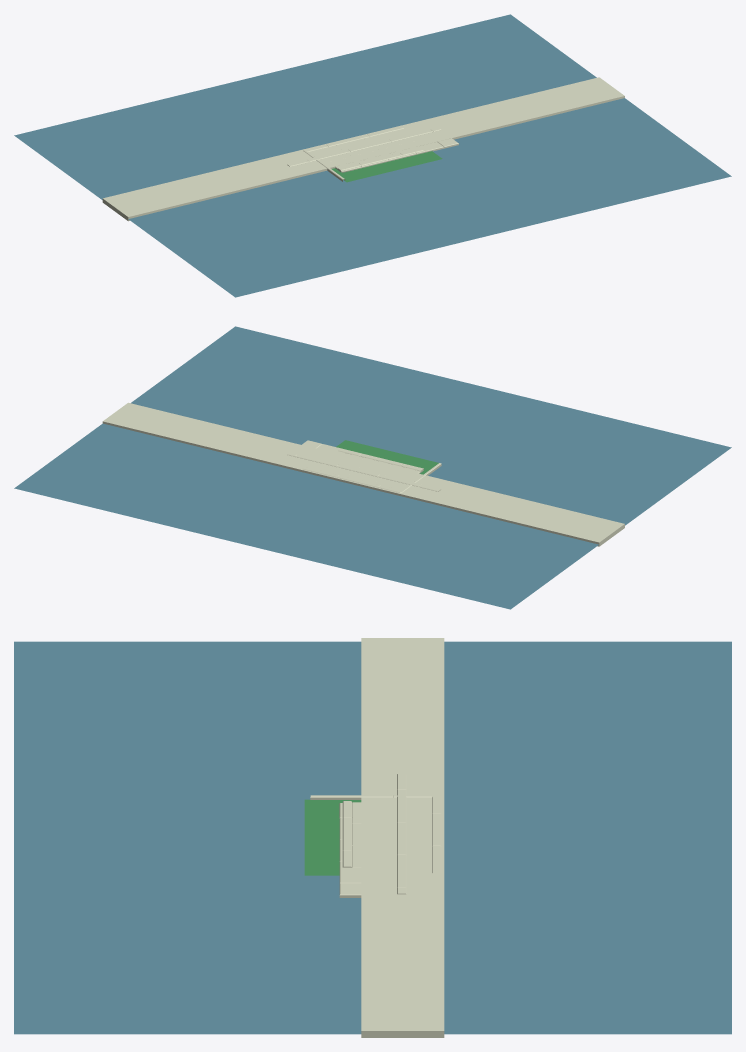
The model's file is floor_all.fbx.
3 views of the same model, one above another, from view 1: azimuth 30°, elevation 25°; view 2: azimuth 150°, elevation 25°; view 3: azimuth 270°, elevation 25° (orthographic). The views are drawn at different scales.
Visible parts, largest first — view 1: asphalt, coub, curb_angle, curb_at_the_bus_stop, grass, curb1; view 2: asphalt, coub, curb_angle, grass, curb_at_the_bus_stop, curb1; view 3: asphalt, coub, curb_angle, grass, curb_at_the_bus_stop, curb1.
Boxes of the visible parts, bbox=[...] form: asphalt: bbox=[14, 14, 731, 297]; coub: bbox=[102, 77, 624, 221]; curb_angle: bbox=[303, 126, 418, 181]; curb_at_the_bus_stop: bbox=[287, 127, 458, 172]; grass: bbox=[331, 151, 442, 182]; curb1: bbox=[335, 146, 423, 172]; asphalt: bbox=[14, 326, 731, 609]; coub: bbox=[102, 402, 624, 546]; curb_angle: bbox=[303, 456, 441, 492]; grass: bbox=[336, 440, 438, 474]; curb_at_the_bus_stop: bbox=[287, 440, 440, 491]; curb1: bbox=[336, 448, 423, 473]; asphalt: bbox=[14, 641, 731, 1034]; coub: bbox=[361, 638, 444, 1037]; curb_angle: bbox=[310, 795, 441, 873]; grass: bbox=[304, 799, 361, 875]; curb_at_the_bus_stop: bbox=[339, 773, 406, 897]; curb1: bbox=[342, 801, 361, 867].
Size of the model in its own units: 6231 by 4812 by 63.66.
